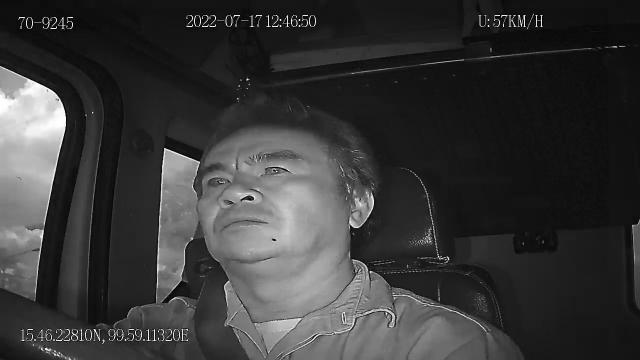SafeDriving: (246, 146, 302, 185), (252, 152, 299, 184), (199, 166, 236, 194)
Seatbelt: (192, 272, 252, 360)
